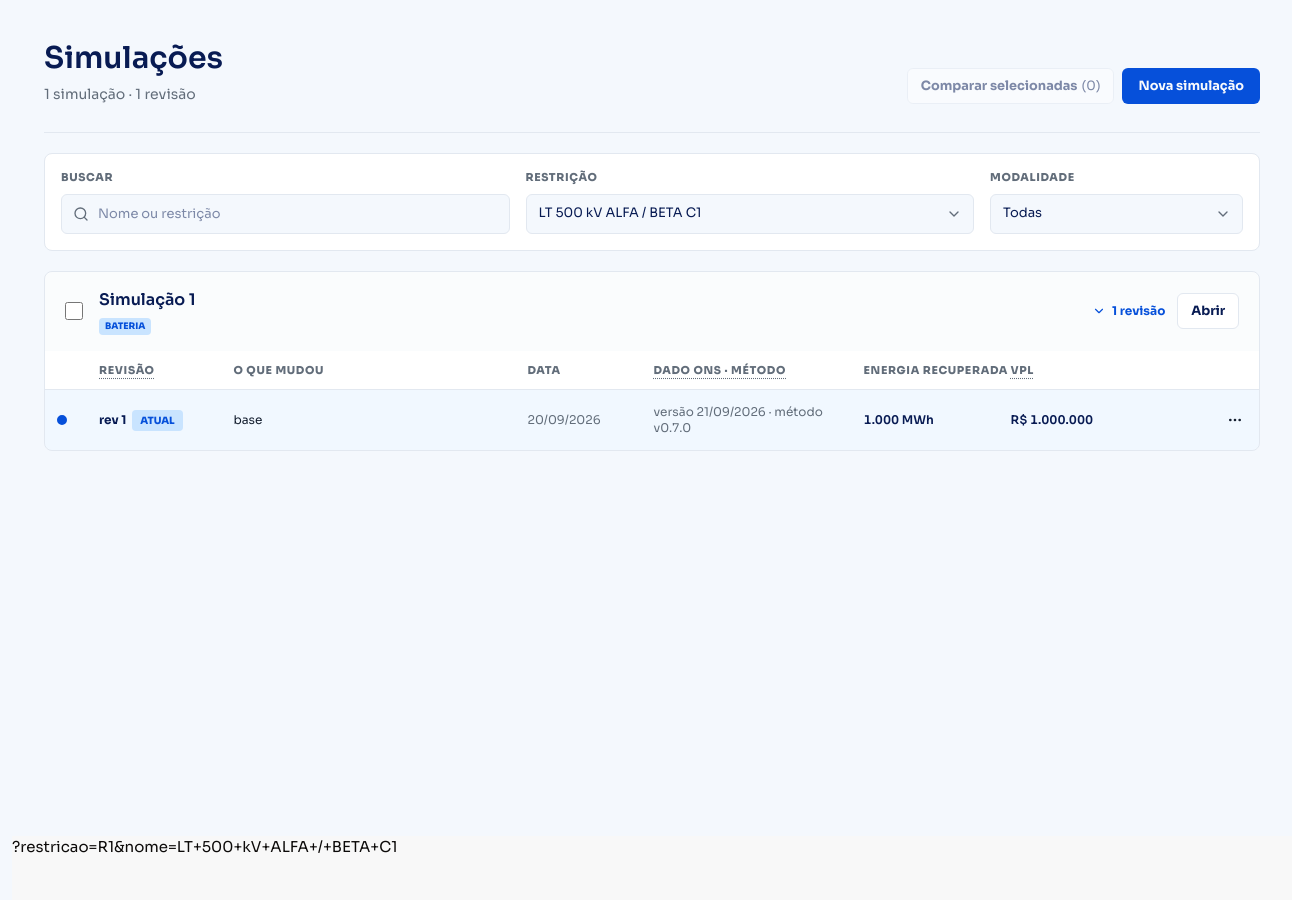
it: simulations page › writes the chosen restriction to the URL, replacing the one it arrived with
Select "LT 230 kV GAMA / DELTA C1" in the dropdown labelled "Restrição" at (750, 214), box [526,194,974,234]
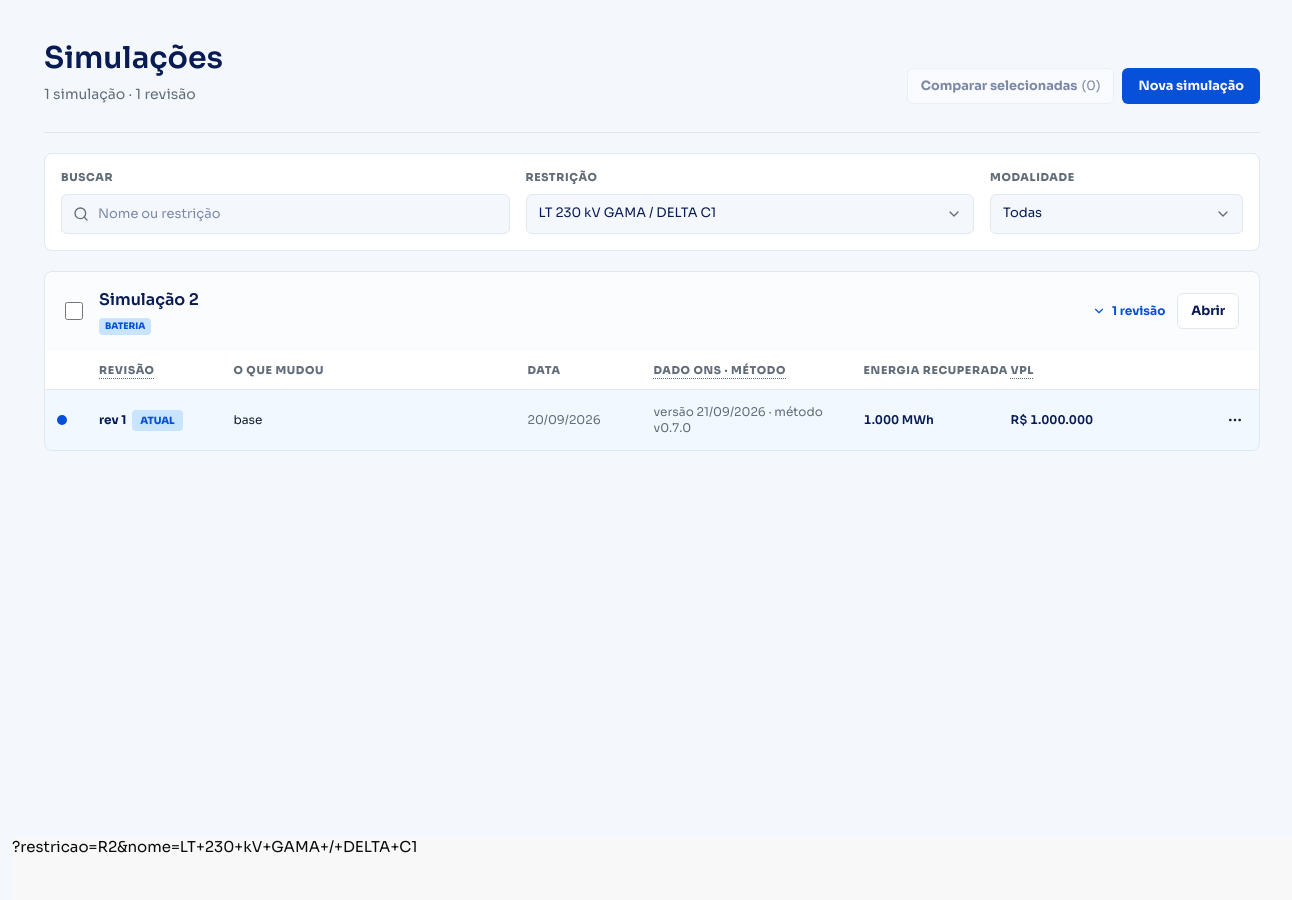
Now the text with test id "search" shows "restricao=R2", box [12,837,418,856]
Now the text with test id "search" shows "nome=LT+230+kV+GAMA+/+DELTA+C1", box [12,837,418,856]
Now the link "Simulação 1" is gone
